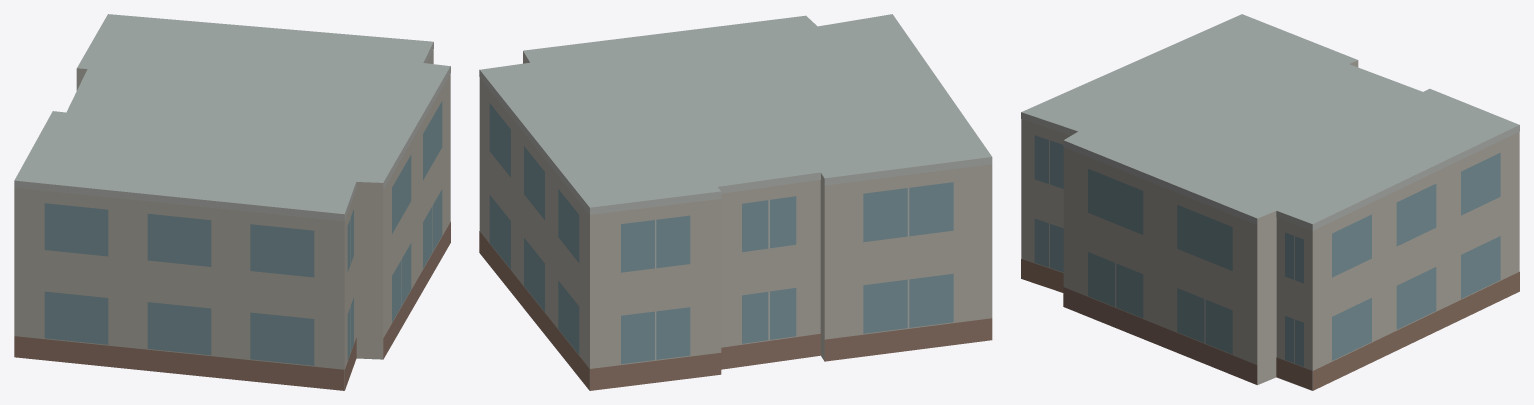
File: survey-upis-32681703.glb
3 views of the same model, side by side, from view 1: azimuth 30°, elevation 25°; view 2: azimuth 150°, elevation 25°; view 3: azimuth 270°, elevation 25° (orthographic). The views are drawn at different scales.
Parts seen in each view (by area): view 1: survey-upis-32681703.tmp; view 2: survey-upis-32681703.tmp; view 3: survey-upis-32681703.tmp.
Boxes of the visible parts, <box> form: survey-upis-32681703.tmp: <box>14,14,450,390</box>; survey-upis-32681703.tmp: <box>479,14,992,390</box>; survey-upis-32681703.tmp: <box>1021,14,1519,390</box>.
Size of the model in its own units: 16.52 by 6.1 by 16.55.
